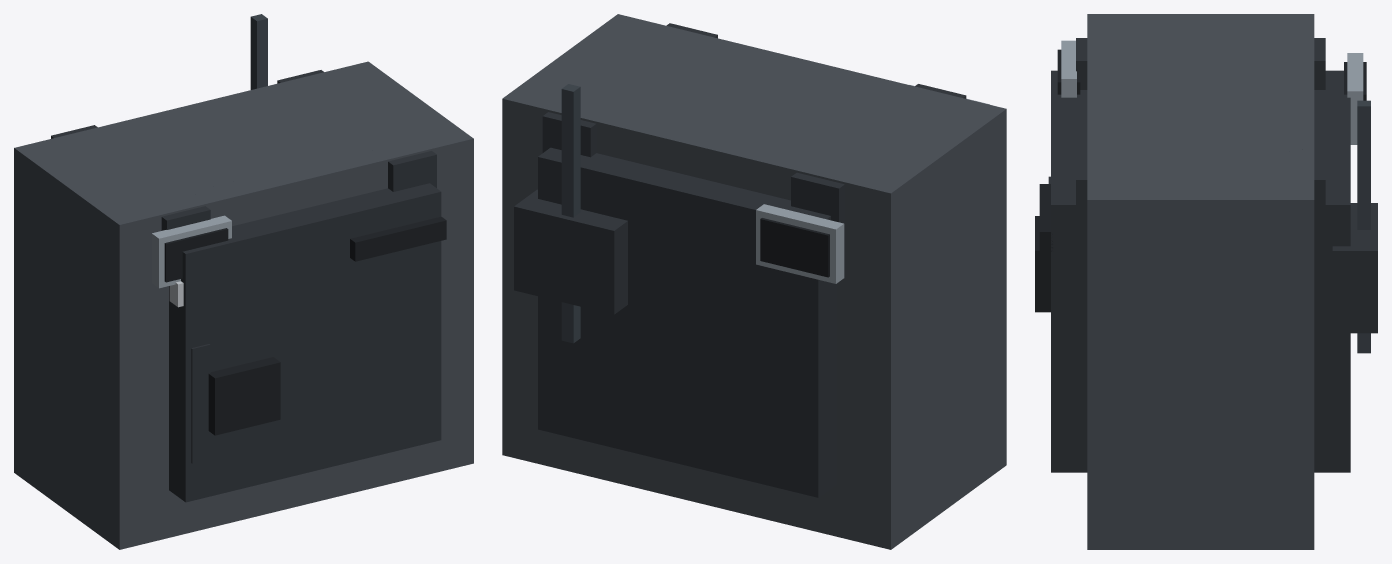
Rendered from pc_recon_upper_torso.fbx.
The picture shows the model from 3 angles, left to right: view 1: azimuth 30°, elevation 25°; view 2: azimuth 150°, elevation 25°; view 3: azimuth 270°, elevation 25°; orthographic projection. The views are drawn at different scales.
Visible parts, largest first — view 1: pc_recon_upper_torso; view 2: pc_recon_upper_torso; view 3: pc_recon_upper_torso.
Boxes of the visible parts, x1,y1,x2,y2 form: pc_recon_upper_torso: (14,14,473,549); pc_recon_upper_torso: (502,14,1006,549); pc_recon_upper_torso: (1035,14,1377,549).
Size of the model in its own units: 194 by 195 by 151.
